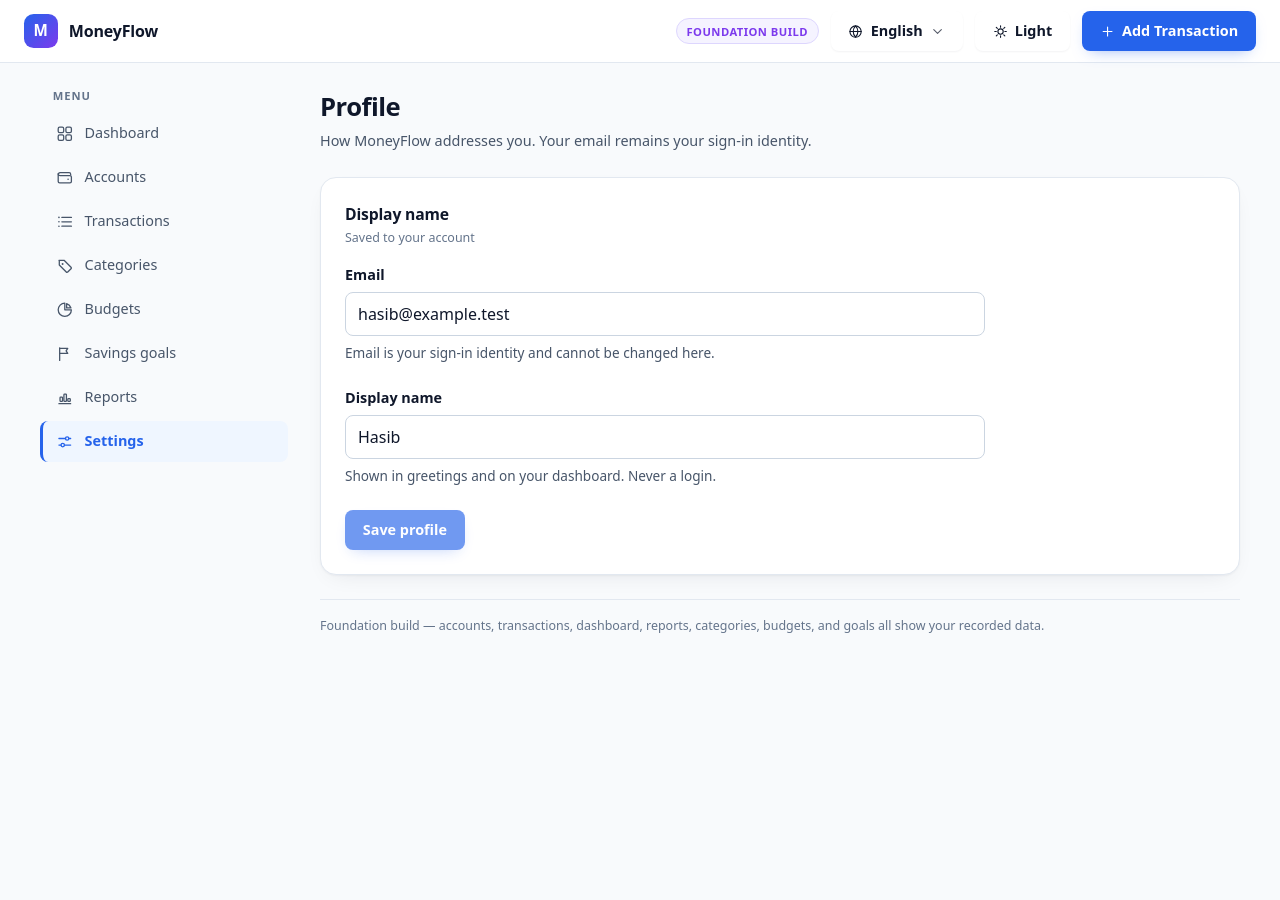
Test: profile route (wired to /api/v1/me) › saves the trimmed name through PATCH /me
Step 1. Replace the text in the field labelled "Display name" with "  New Name  " → x=665, y=437, box [345,415,985,459]
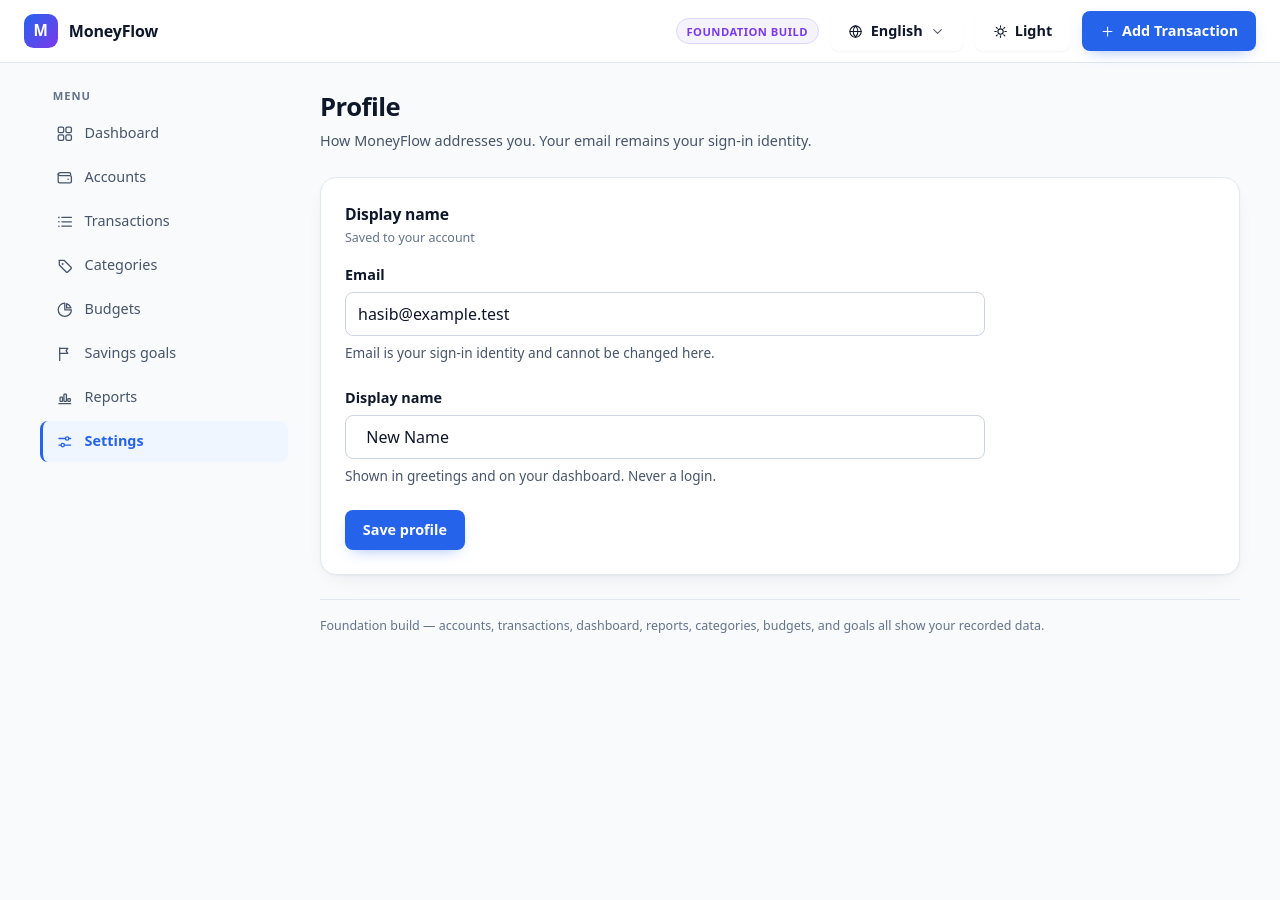
Step 2. Click the button "Save profile" → x=405, y=530, box [345,510,465,550]
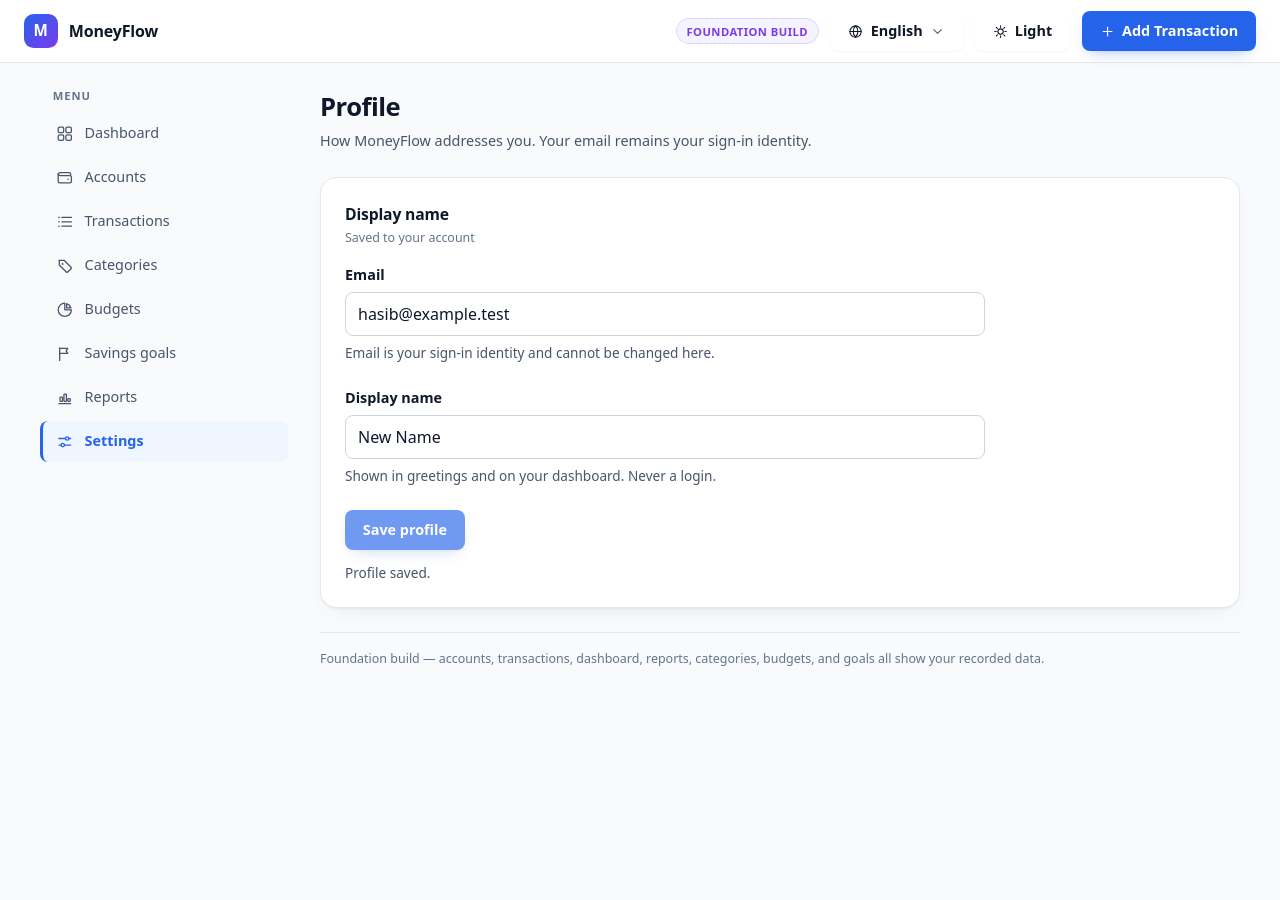
Expected: the text "Profile saved." is shown, [345,562,430,584]
